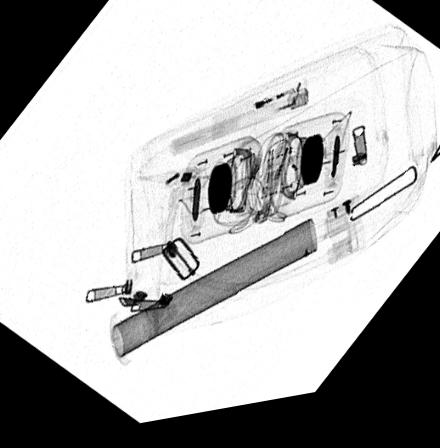Lighter: (171, 91, 310, 162)
